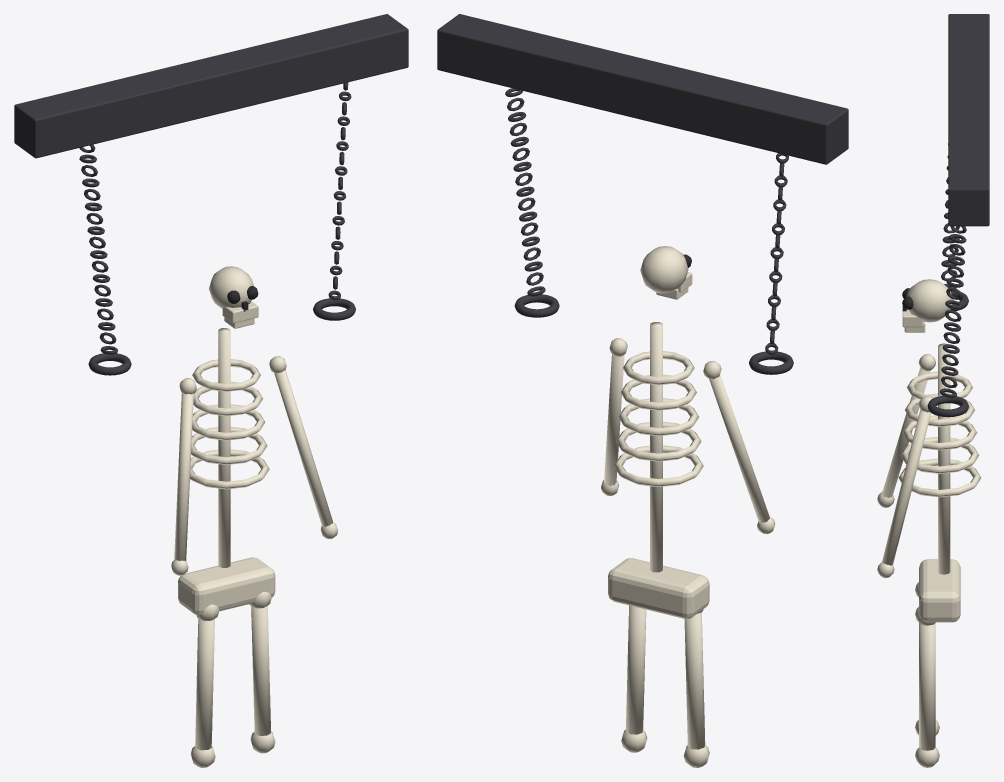
Rendered from hanging_remains_skeleton_wall.glb.
The picture shows the model from 3 angles, left to right: view 1: azimuth 30°, elevation 25°; view 2: azimuth 150°, elevation 25°; view 3: azimuth 270°, elevation 25°; orthographic projection. The views are drawn at different scales.
Parts seen in each view (by area): view 1: GD_hanging_remains_skeleton_wall__m0, GD_hanging_remains_skeleton_wall__m1; view 2: GD_hanging_remains_skeleton_wall__m0, GD_hanging_remains_skeleton_wall__m1; view 3: GD_hanging_remains_skeleton_wall__m1, GD_hanging_remains_skeleton_wall__m0.
Boxes of the visible parts, x1,y1,x2,y2 form: GD_hanging_remains_skeleton_wall__m0: [14, 14, 408, 375]; GD_hanging_remains_skeleton_wall__m1: [171, 266, 337, 767]; GD_hanging_remains_skeleton_wall__m0: [437, 14, 848, 374]; GD_hanging_remains_skeleton_wall__m1: [601, 246, 775, 767]; GD_hanging_remains_skeleton_wall__m1: [877, 279, 981, 767]; GD_hanging_remains_skeleton_wall__m0: [927, 14, 989, 417].
Bounding box in the file's own units: 1 × 1.73 × 0.271.
